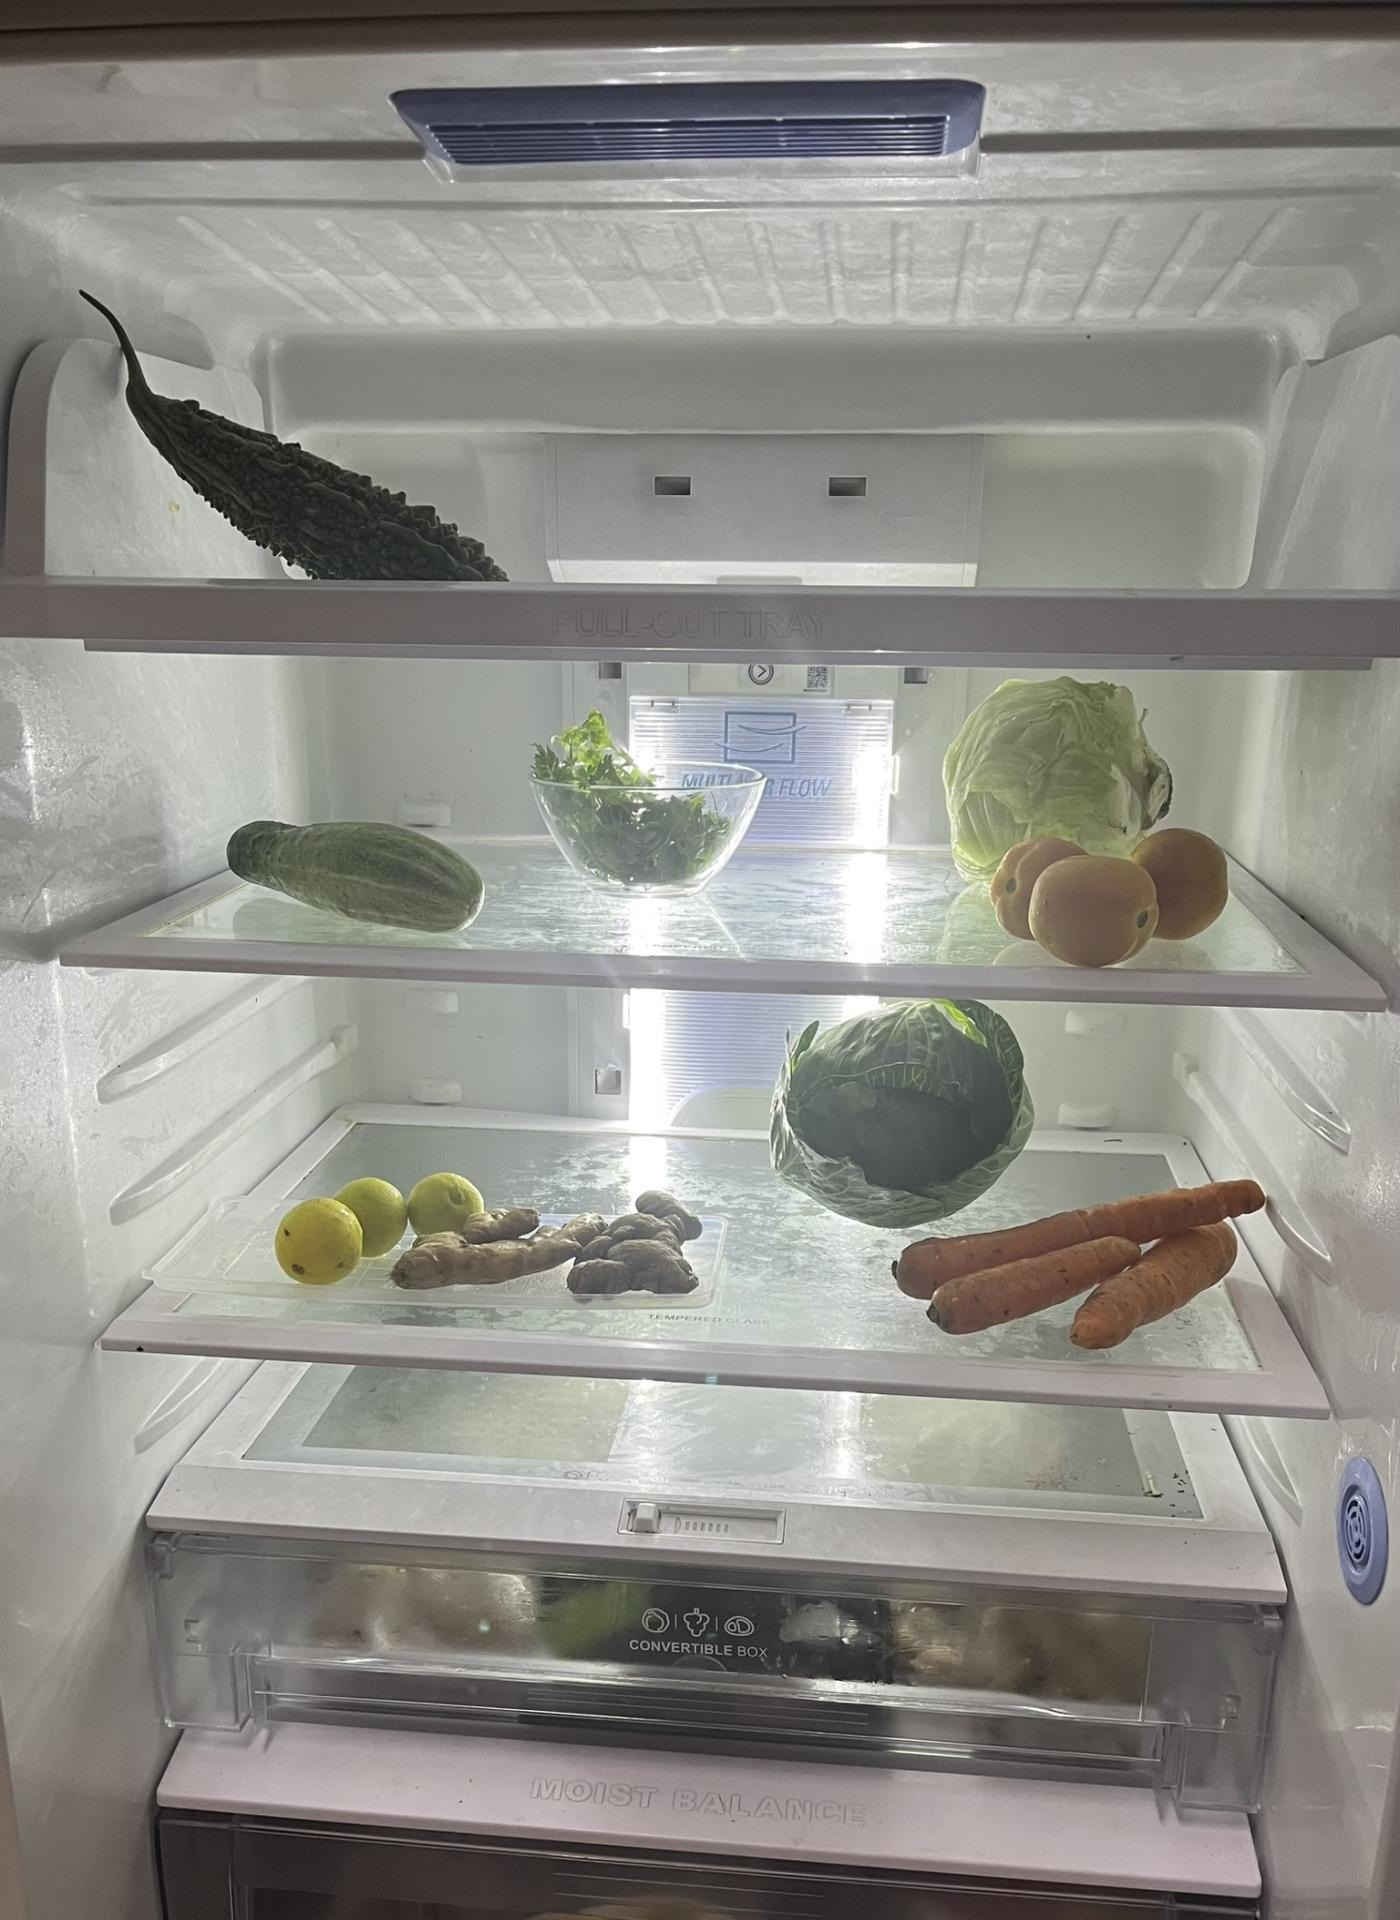bitter gourd: (110, 301, 510, 580)
cabbage: (774, 1005, 1030, 1224)
carrots: (887, 1179, 1264, 1348)
coriander: (531, 716, 747, 897)
cucumber: (227, 818, 483, 935)
ginger: (391, 1197, 695, 1295)
lemon: (277, 1176, 479, 1285)
lettuce: (947, 678, 1169, 875)
tomato: (996, 830, 1232, 961)
